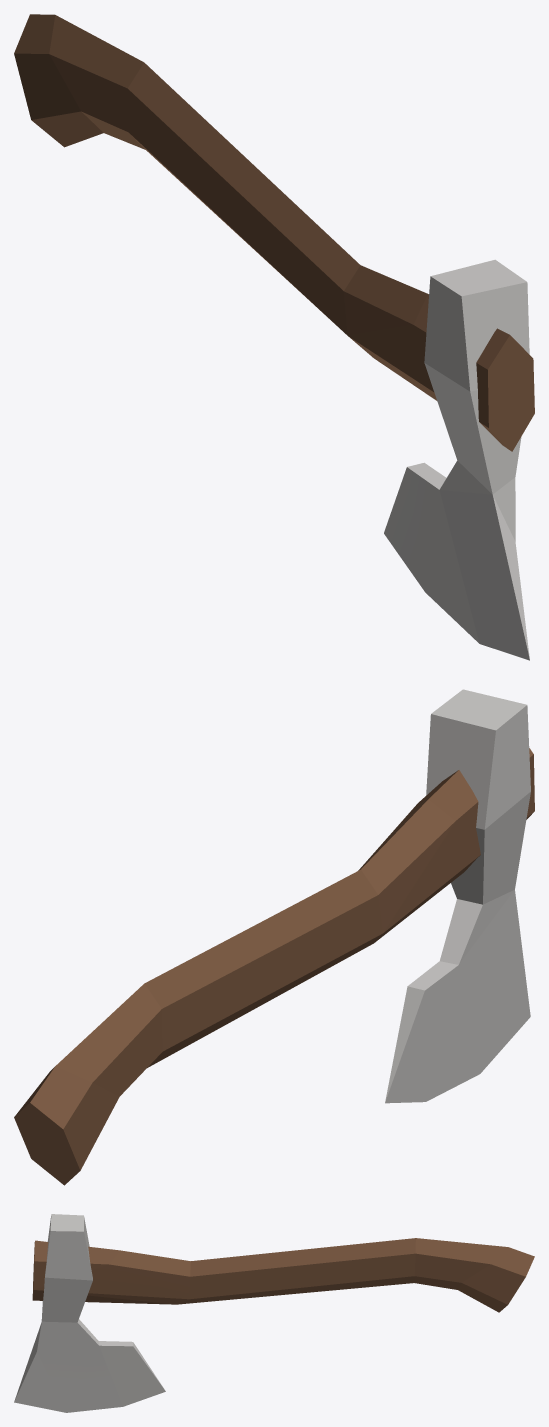
Rendered from Viking_M_Axe.fbx.
3 views of the same model, one above another, from view 1: azimuth 30°, elevation 25°; view 2: azimuth 150°, elevation 25°; view 3: azimuth 270°, elevation 25° (orthographic). The views are drawn at different scales.
Visible parts, largest first — view 1: Viking_M_Axe; view 2: Viking_M_Axe; view 3: Viking_M_Axe.
Part boxes in pixels (bbox=[...]): Viking_M_Axe: bbox=[14, 14, 534, 660]; Viking_M_Axe: bbox=[14, 689, 534, 1185]; Viking_M_Axe: bbox=[14, 1214, 534, 1412].
Size of the model in its own units: 4.39 by 23.62 by 58.47.
